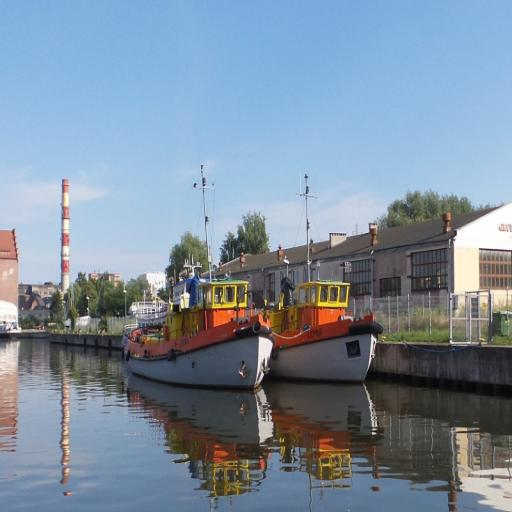tugboat: (117, 161, 279, 402)
